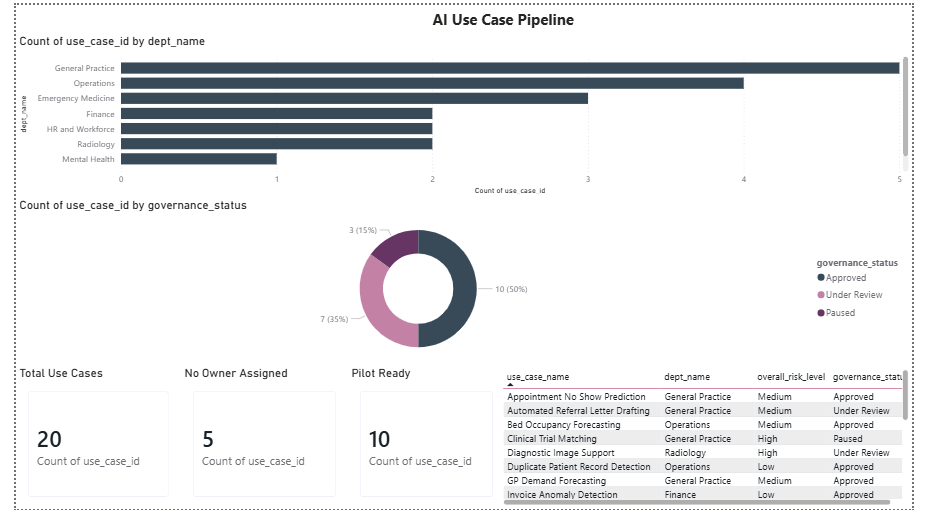

What the dashboard file says about the page in this screenshot:
{"tool":"powerbi","page":{"name":" AI Use Case Pipeline","canvas":[1280,720],"ordinal":0},"visuals":[{"type":"clusteredBarChart","fields":{"Category":["departments.dept_name"],"Y":["CountNonNull(ai_use_cases.use_case_id)"]},"box":[0,41.4,1280,234.3],"z":0},{"type":"donutChart","fields":{"Category":["ai_use_cases.governance_status"],"Y":["CountNonNull(ai_use_cases.use_case_id)"]},"box":[0,276.2,1280,240],"z":1000},{"type":"cardVisual","title":"Total Use Cases","fields":{"Data":["CountNonNull(ai_use_cases.use_case_id)"]},"box":[0,515.7,235.7,204.3],"z":2000},{"type":"cardVisual","title":"Pilot Ready","fields":{"Data":["CountNonNull(ai_use_cases.use_case_id)"]},"box":[474.3,515.7,224.3,204.3],"z":3000},{"type":"cardVisual","title":"No Owner Assigned","fields":{"Data":["CountNonNull(ai_use_cases.use_case_id)"]},"box":[235.7,515.7,238.6,204.3],"z":4000},{"type":"tableEx","fields":{"Values":["ai_use_cases.use_case_name","departments.dept_name","risk_assessments.overall_risk_level","ai_use_cases.governance_status"]},"box":[690,515.7,590,204.3],"z":5000},{"type":"textbox","box":[590,0,225.7,41.4],"z":6000}]}

Visuals, with their boxes in screenshot pixels (x1, y1, x2, y2), scaled from the page's 1280x720 canvas onto the 928x510 screenshot:
clusteredBarChart - departments.dept_name x CountNonNull(ai_use_cases.use_case_id): [0,29,927,195]
donutChart - ai_use_cases.governance_status x CountNonNull(ai_use_cases.use_case_id): [0,196,927,366]
"Total Use Cases" cardVisual: [0,365,171,509]
"Pilot Ready" cardVisual: [344,365,506,509]
"No Owner Assigned" cardVisual: [171,365,344,509]
tableEx - ai_use_cases.use_case_name x departments.dept_name: [500,365,927,509]
textbox: [428,0,591,29]
